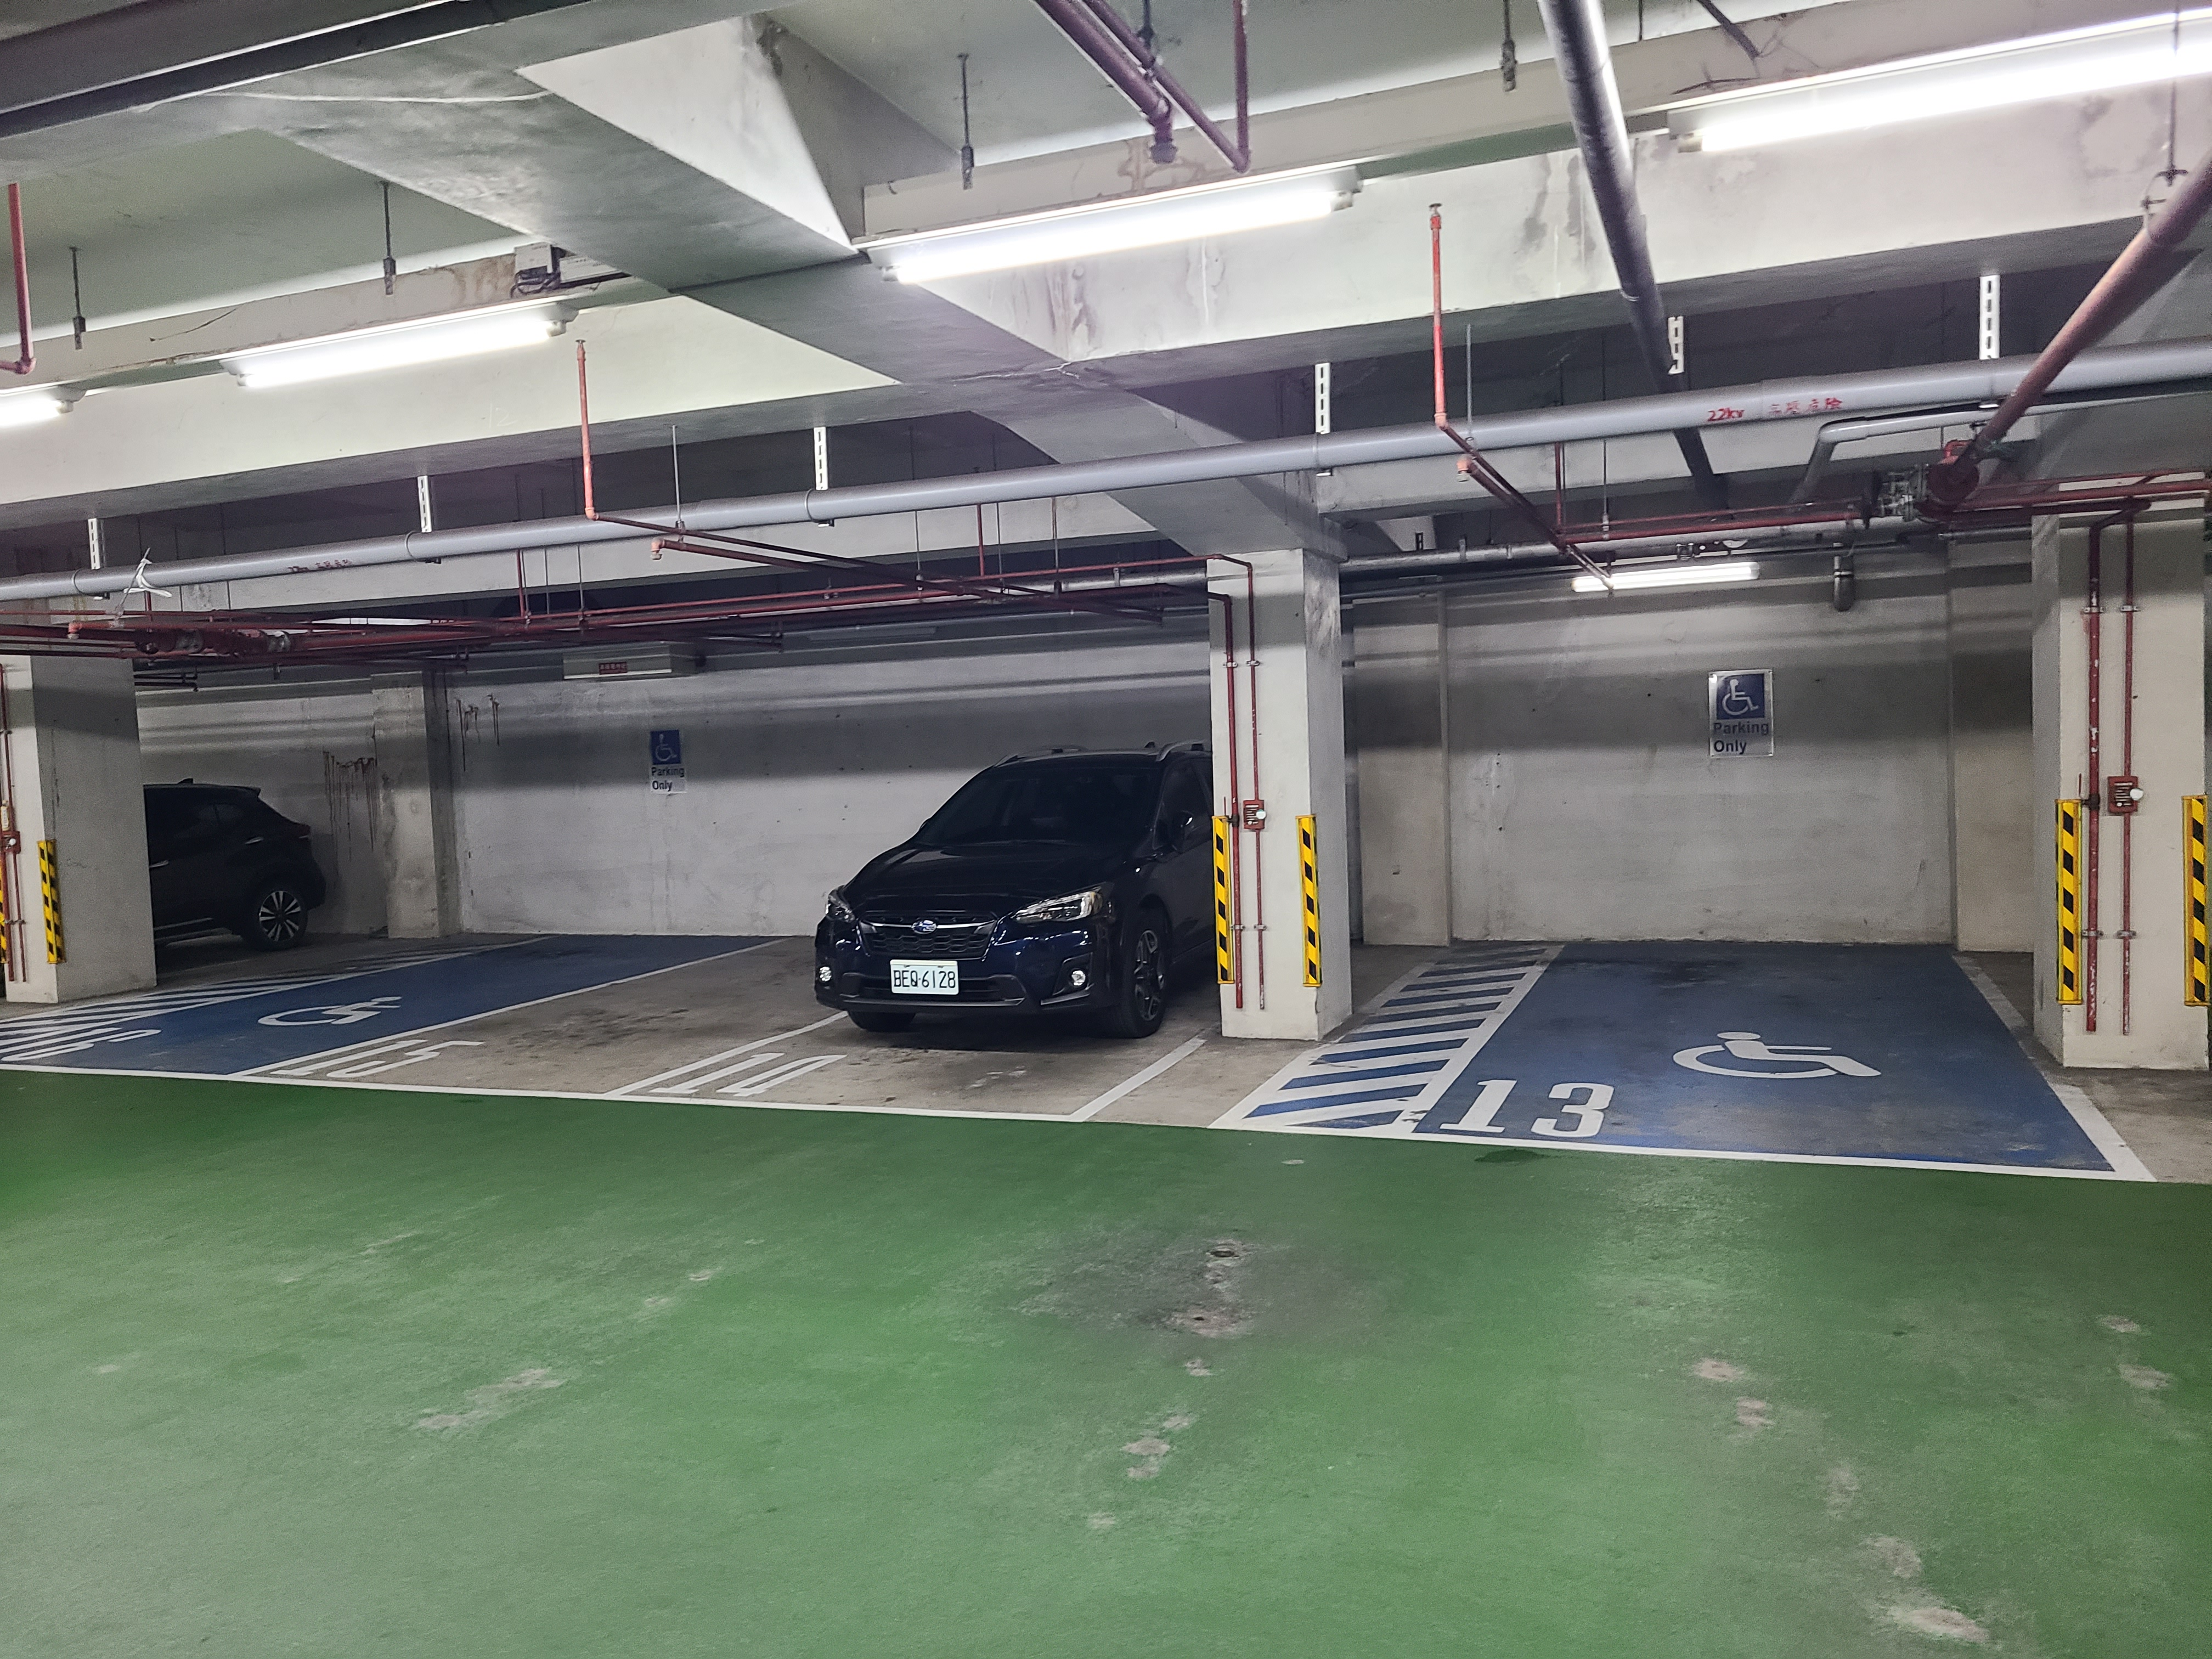car: (792, 739, 1221, 1044), (152, 765, 331, 957)
